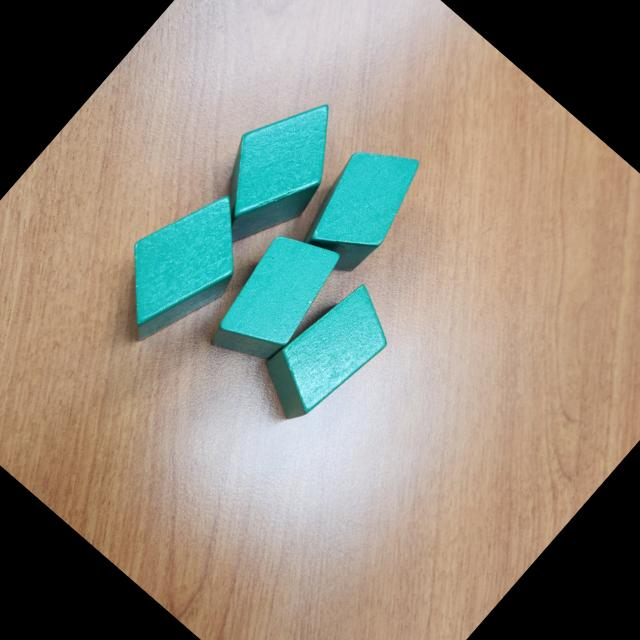green: (182, 74, 370, 268), (92, 171, 274, 359), (246, 268, 408, 438), (194, 214, 356, 383), (284, 126, 439, 286)
